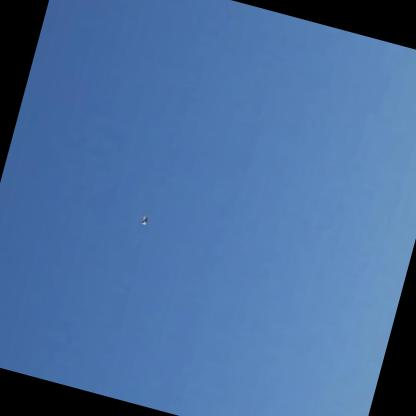plane: (140, 213, 150, 225)
